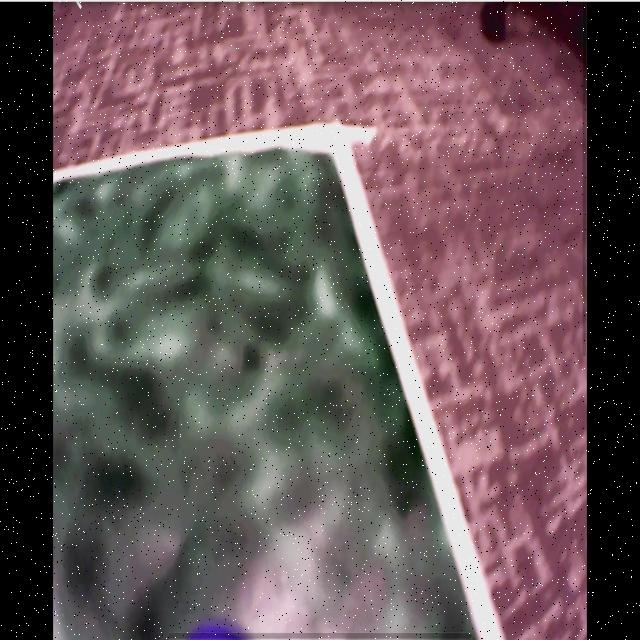ball: (183, 622, 246, 640)
